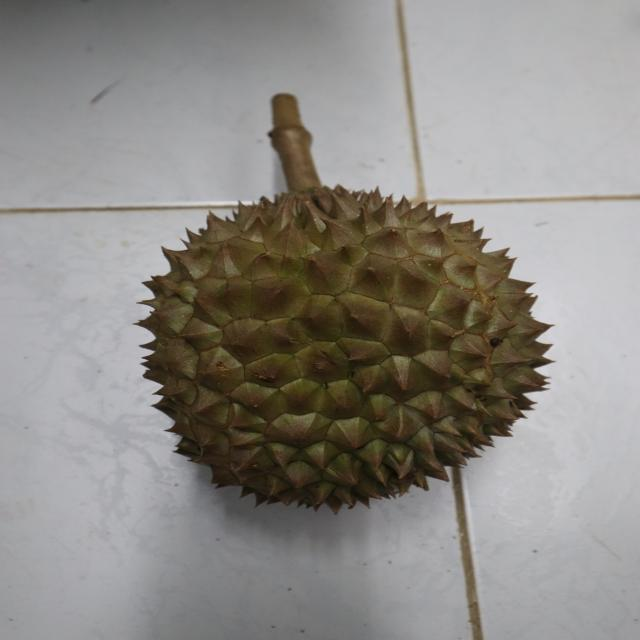mature: (125, 184, 564, 520)
